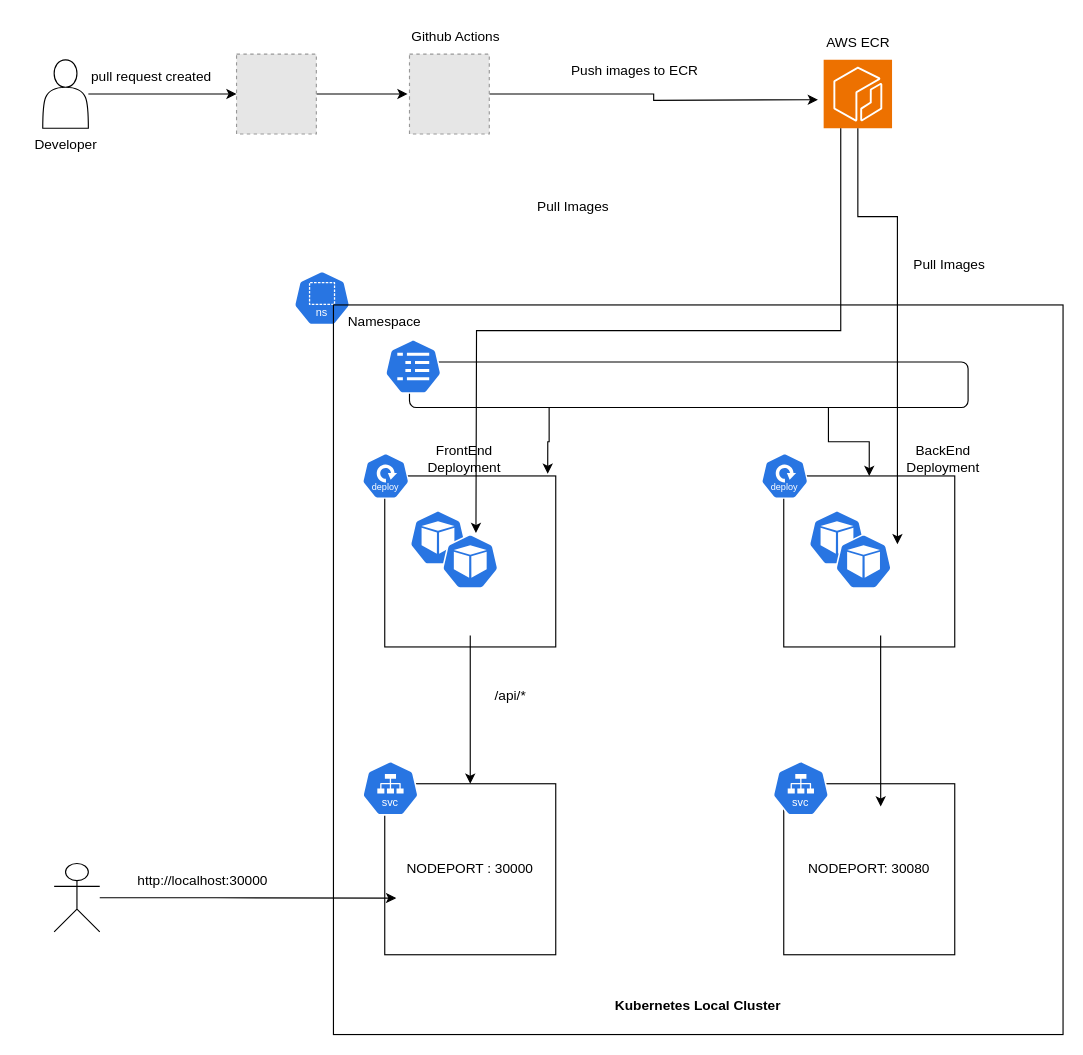
Image size: 1083x1055. Some labels were removed from this diagram. Grey dashed boxes stand in for pictures. The shapes that lost their labels are listed below. From the top down, each one's box as (x1, y1, x2, y2) in pixels, then its label:
(408, 361, 968, 408): Config map
(53, 862, 100, 932): Actor
